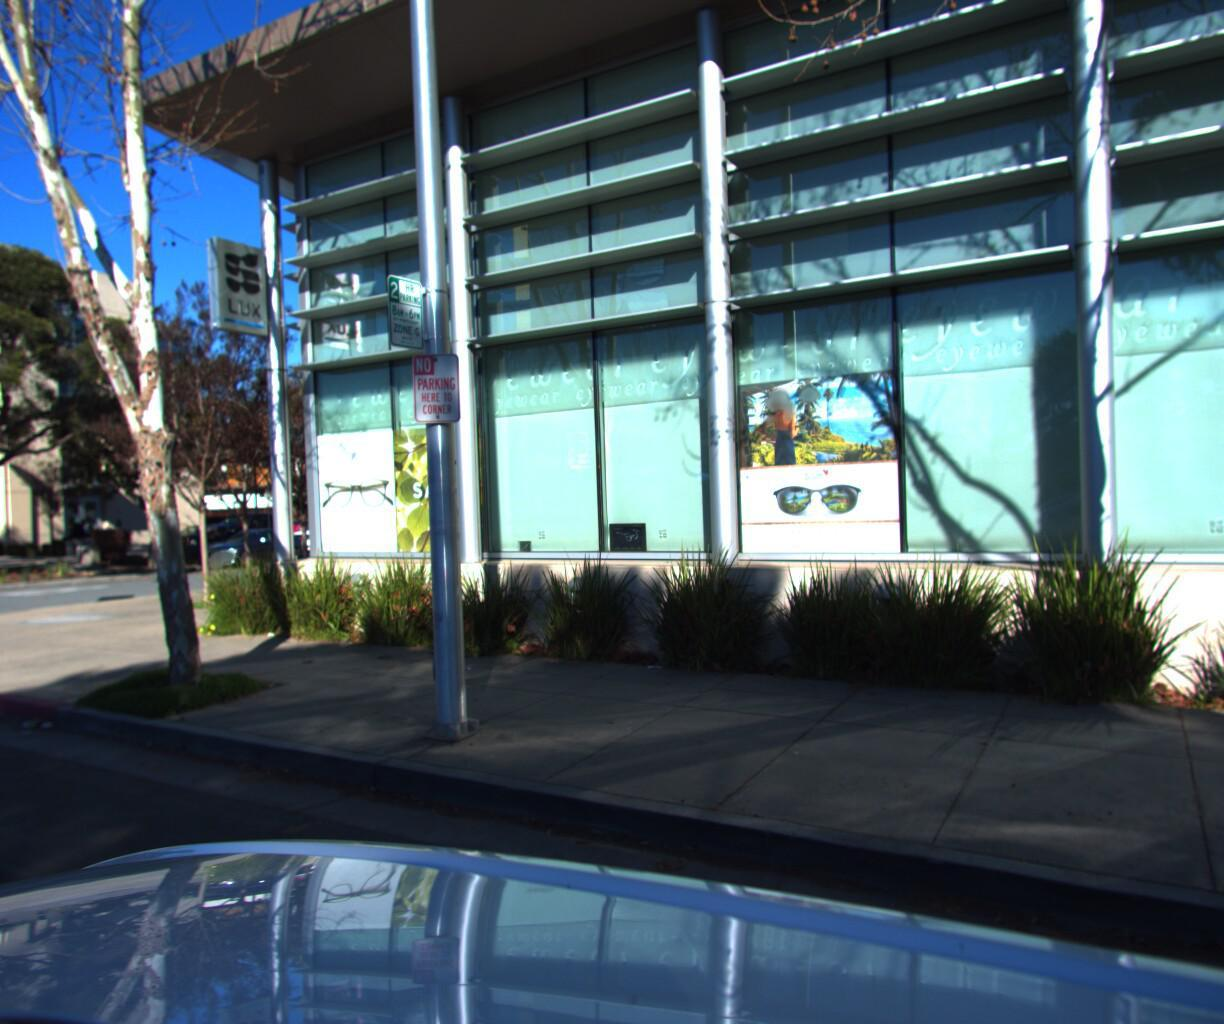car: (189, 526, 304, 573), (276, 511, 381, 560), (191, 504, 294, 548)
